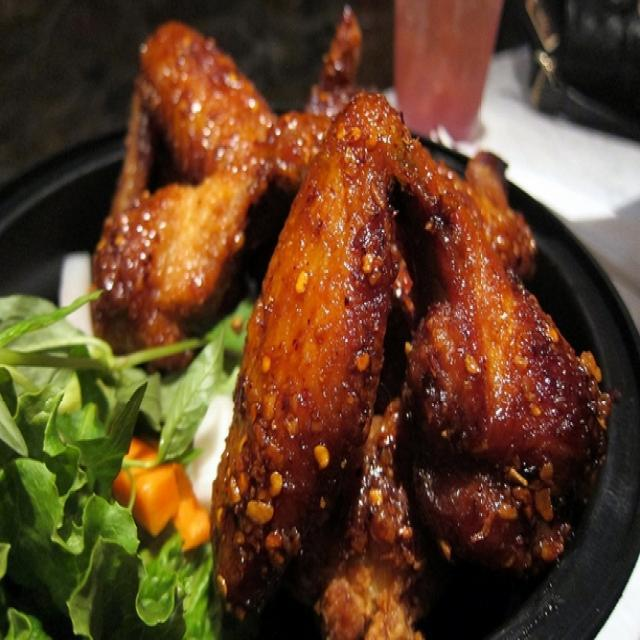Deep fried chicken wing: (116, 66, 591, 536)
Salad: (2, 285, 212, 611)
